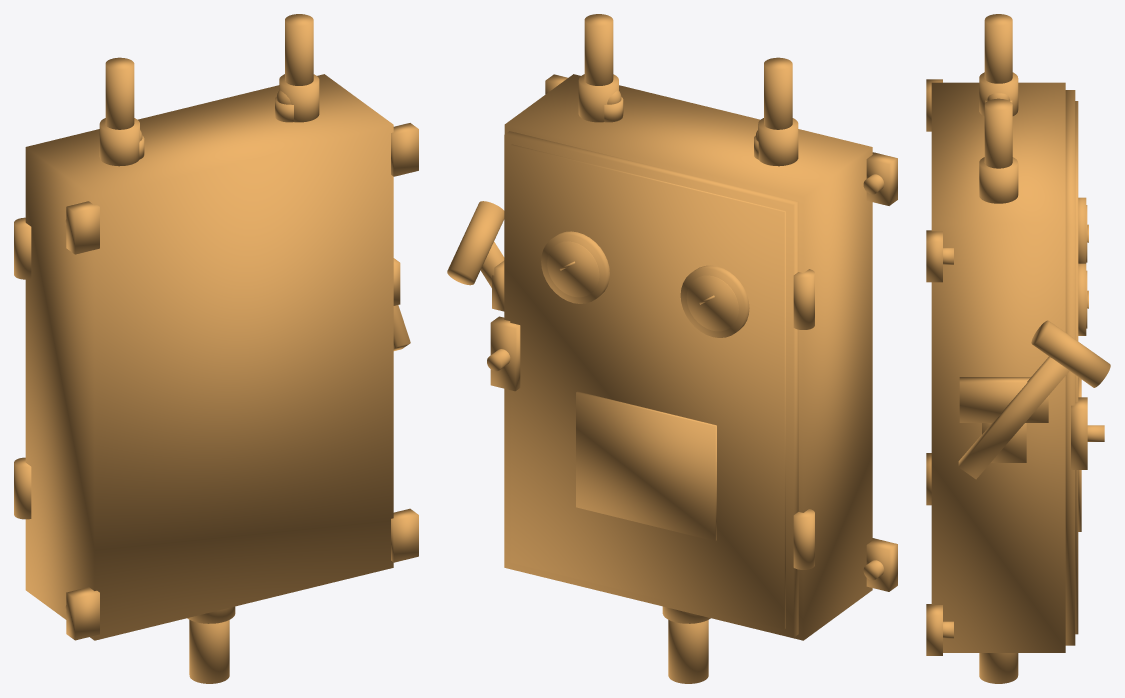
File: SM_Emergency_Breaker.fbx
3 renders of one model, left to right at view 1: azimuth 30°, elevation 25°; view 2: azimuth 150°, elevation 25°; view 3: azimuth 270°, elevation 25°, orthographic. The views are drawn at different scales.
Parts seen in each view (by area): view 1: SM_Emergency_Breaker; view 2: SM_Emergency_Breaker; view 3: SM_Emergency_Breaker.
Part boxes in pixels (<box>): SM_Emergency_Breaker: <box>14,14,418,683</box>; SM_Emergency_Breaker: <box>447,14,897,683</box>; SM_Emergency_Breaker: <box>926,14,1110,683</box>.
Size of what is drawn, in the model's own units: 72.1 by 122 by 33.12.
